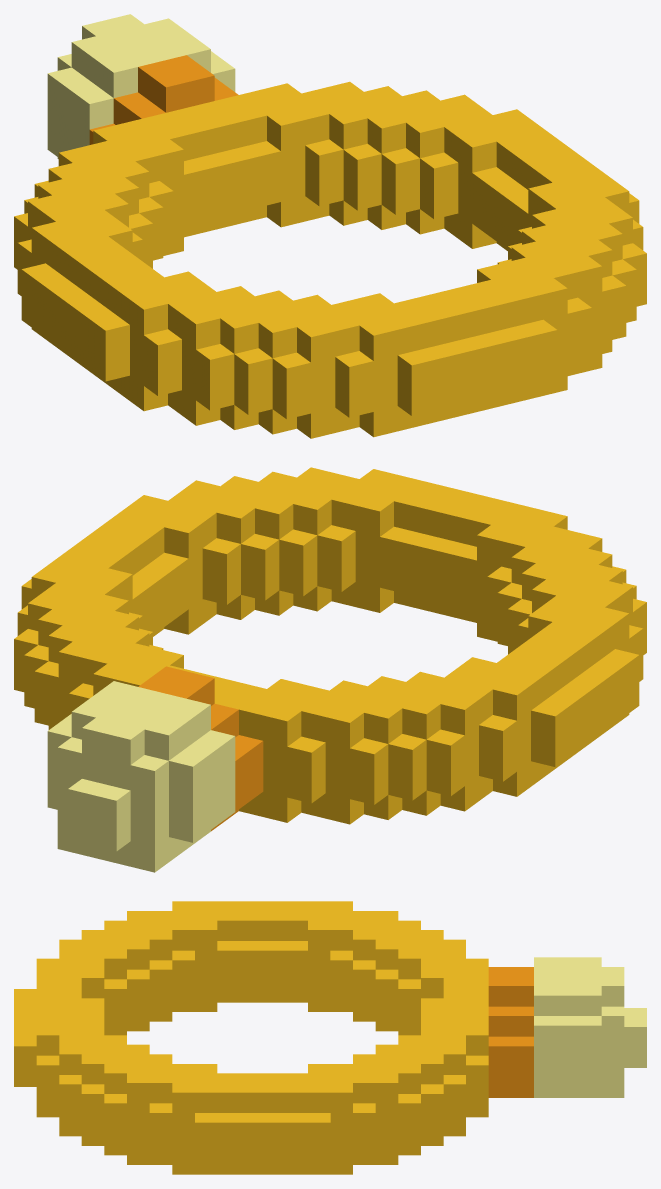
The model's file is item_RING_TOPAZ.glb.
3 views of the same model, one above another, from view 1: azimuth 30°, elevation 25°; view 2: azimuth 150°, elevation 25°; view 3: azimuth 270°, elevation 25° (orthographic). The views are drawn at different scales.
Visible parts, largest first — view 1: item_RING_TOPAZ; view 2: item_RING_TOPAZ; view 3: item_RING_TOPAZ.
Part boxes in pixels (<box>): item_RING_TOPAZ: <box>14,14,646,438</box>; item_RING_TOPAZ: <box>14,467,646,872</box>; item_RING_TOPAZ: <box>14,901,646,1174</box>.
Size of the model in its own units: 0.25 by 0.0568 by 0.3182.
Materials: 1 (1 with a texture image).
